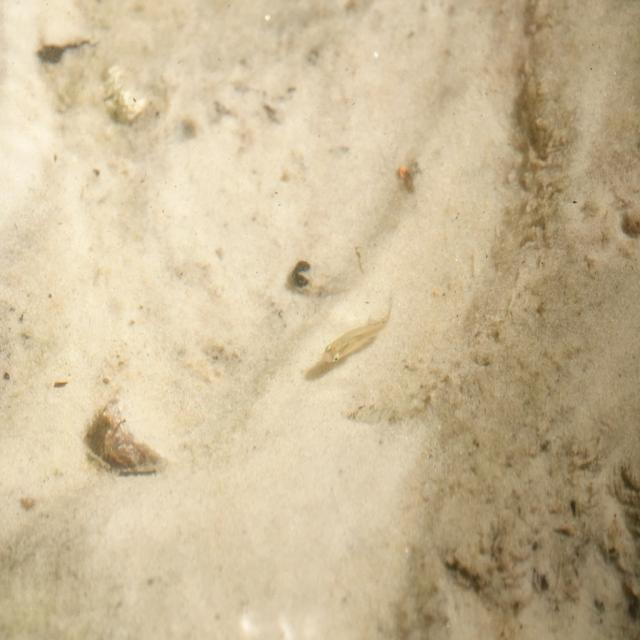Sivrisinek Baligi: (317, 290, 395, 374)
